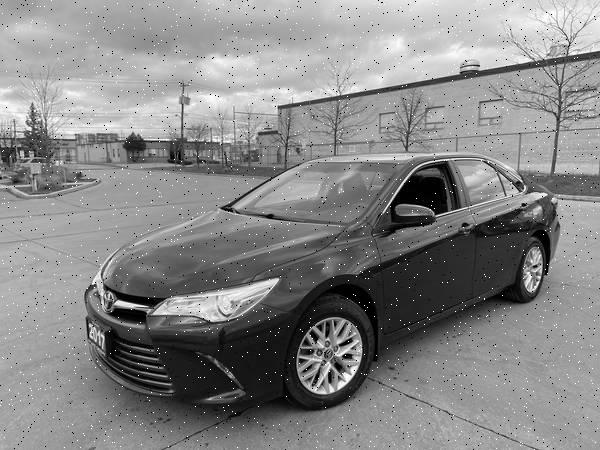Front_Bumper: (147, 303, 301, 402)
Front_Fender: (255, 219, 387, 343)
Front_Left_Door: (373, 209, 478, 342)
Front_Left_Window: (372, 160, 471, 238)
Front_Windshield: (219, 161, 403, 226)
Grille: (83, 279, 174, 400)
Hood: (100, 211, 343, 296)
Left_Headlight: (150, 276, 280, 325)
Rear_Bumper: (546, 218, 560, 259)
Rear_Fender: (525, 178, 557, 228)
Rear_Left_Door: (468, 191, 534, 303)
Rear_Left_Window: (453, 158, 527, 207)
Roof: (306, 154, 550, 229)
Wheel: (286, 298, 376, 410), (514, 238, 548, 299)
